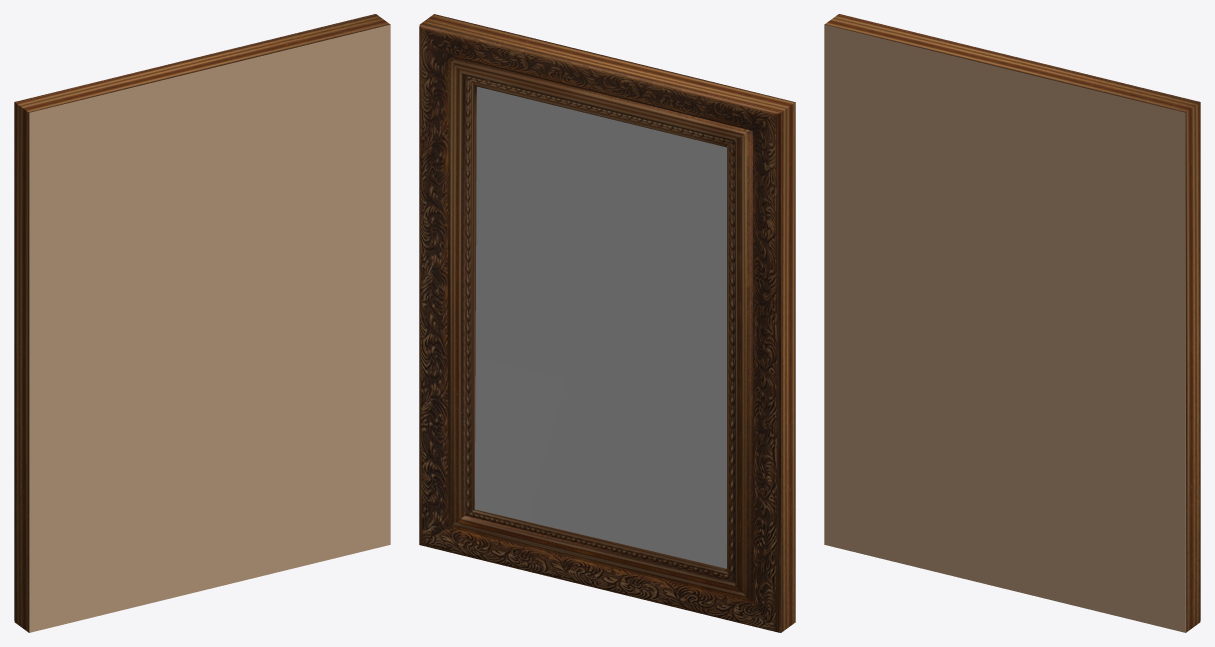
File: Cat Painting.fbx
3 views of the same model, side by side, from view 1: azimuth 30°, elevation 25°; view 2: azimuth 150°, elevation 25°; view 3: azimuth 330°, elevation 25° (orthographic).
Parts seen in each view (by area): view 1: SM_frame; view 2: SM_frame; view 3: SM_frame.
Part boxes in pixels (left/top/right/bottom): SM_frame: left=14, top=14, right=390, bottom=632; SM_frame: left=419, top=14, right=795, bottom=632; SM_frame: left=824, top=14, right=1200, bottom=632.
Size of the model in its own units: 81.15 by 6.28 by 112.
